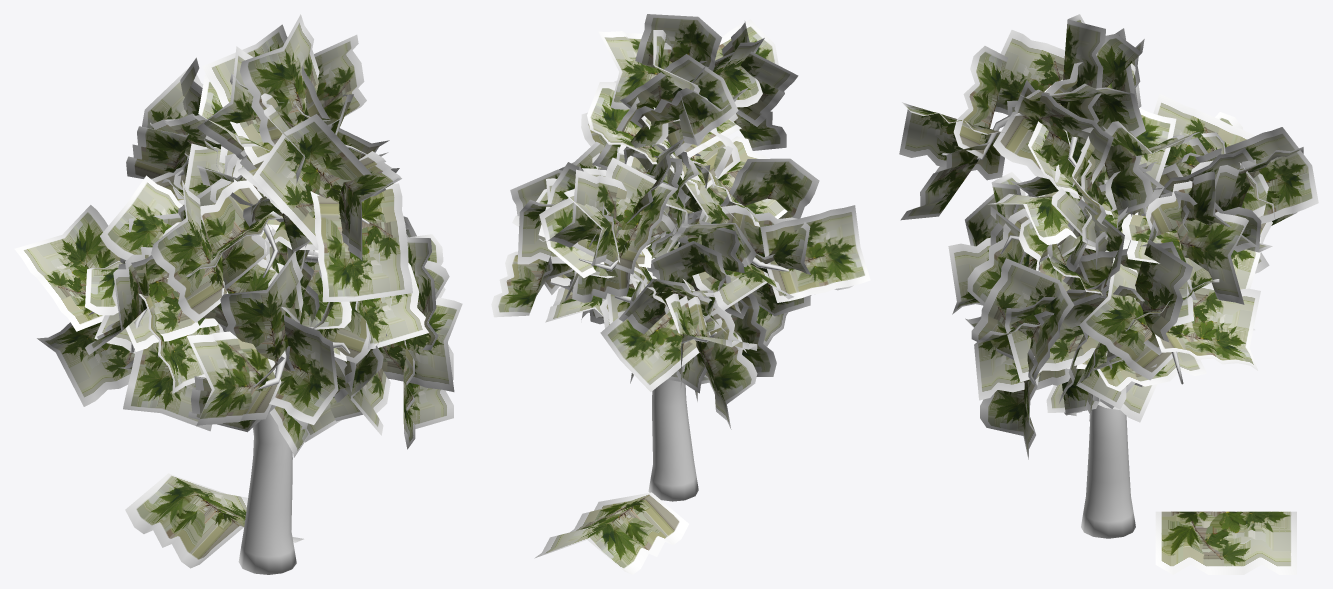
File: Tree_3_FULL (1).fbx
3 views of the same model, side by side, from view 1: azimuth 30°, elevation 25°; view 2: azimuth 150°, elevation 25°; view 3: azimuth 270°, elevation 25° (orthographic). The views are drawn at different scales.
Visible parts, largest first — view 1: Tree|Leaf|Dupli|33, Tree, Tree|Leaf|Dupli|36, Leaf, Tree|Leaf|Dupli|145, Tree|Leaf|Dupli|124, Tree|Leaf|Dupli|76, Tree|Leaf|Dupli|31, Tree|Leaf|Dupli|132, Tree|Leaf|Dupli|133, Tree|Leaf|Dupli|144, Tree|Leaf|Dupli|65 (+34 smaller); view 2: Tree|Leaf|Dupli|46, Leaf, Tree, Tree|Leaf|Dupli|16, Tree|Leaf|Dupli|142, Tree|Leaf|Dupli|27, Tree|Leaf|Dupli|76, Tree|Leaf|Dupli|144, Tree|Leaf|Dupli|31, Tree|Leaf|Dupli|13, Tree|Leaf|Dupli|71, Tree|Leaf|Dupli|36 (+37 smaller); view 3: Leaf, Tree, Tree|Leaf|Dupli|34, Tree|Leaf|Dupli|138, Tree|Leaf|Dupli|55, Tree|Leaf|Dupli|59, Tree|Leaf|Dupli|13, Tree|Leaf|Dupli|56, Tree|Leaf|Dupli|87, Tree|Leaf|Dupli|35, Tree|Leaf|Dupli|32, Tree|Leaf|Dupli|36 (+42 smaller).
Boxes of the visible parts, bbox=[...] form: Tree|Leaf|Dupli|33: bbox=[310, 183, 412, 302]; Tree: bbox=[130, 144, 369, 574]; Tree|Leaf|Dupli|36: bbox=[252, 114, 385, 249]; Leaf: bbox=[125, 473, 303, 568]; Tree|Leaf|Dupli|145: bbox=[14, 205, 120, 331]; Tree|Leaf|Dupli|124: bbox=[187, 331, 281, 426]; Tree|Leaf|Dupli|76: bbox=[151, 180, 228, 322]; Tree|Leaf|Dupli|31: bbox=[240, 14, 319, 146]; Tree|Leaf|Dupli|132: bbox=[220, 251, 303, 363]; Tree|Leaf|Dupli|133: bbox=[269, 315, 338, 424]; Tree|Leaf|Dupli|144: bbox=[37, 311, 134, 406]; Tree|Leaf|Dupli|65: bbox=[355, 297, 462, 391]; Tree|Leaf|Dupli|46: bbox=[760, 205, 870, 302]; Leaf: bbox=[534, 492, 688, 574]; Tree: bbox=[578, 257, 811, 501]; Tree|Leaf|Dupli|16: bbox=[573, 157, 677, 274]; Tree|Leaf|Dupli|142: bbox=[600, 310, 699, 391]; Tree|Leaf|Dupli|27: bbox=[620, 54, 738, 157]; Tree|Leaf|Dupli|76: bbox=[720, 158, 819, 218]; Tree|Leaf|Dupli|144: bbox=[695, 307, 757, 429]; Tree|Leaf|Dupli|31: bbox=[635, 14, 721, 71]; Tree|Leaf|Dupli|13: bbox=[548, 169, 626, 247]; Tree|Leaf|Dupli|71: bbox=[722, 205, 810, 274]; Tree|Leaf|Dupli|36: bbox=[722, 21, 798, 126]; Leaf: bbox=[1155, 511, 1296, 574]; Tree: bbox=[941, 113, 1183, 538]; Tree|Leaf|Dupli|34: bbox=[993, 80, 1113, 198]; Tree|Leaf|Dupli|138: bbox=[971, 258, 1074, 386]; Tree|Leaf|Dupli|55: bbox=[1155, 280, 1260, 370]; Tree|Leaf|Dupli|59: bbox=[1079, 257, 1177, 380]; Tree|Leaf|Dupli|13: bbox=[1195, 127, 1318, 223]; Tree|Leaf|Dupli|56: bbox=[1135, 220, 1192, 355]; Tree|Leaf|Dupli|87: bbox=[1177, 211, 1248, 304]; Tree|Leaf|Dupli|35: bbox=[899, 102, 1004, 180]; Tree|Leaf|Dupli|32: bbox=[994, 30, 1065, 114]; Tree|Leaf|Dupli|36: bbox=[953, 46, 1007, 160].
Bounding box in the file's own units: 571 × 857 × 612.
2 materials, 1 textured.
